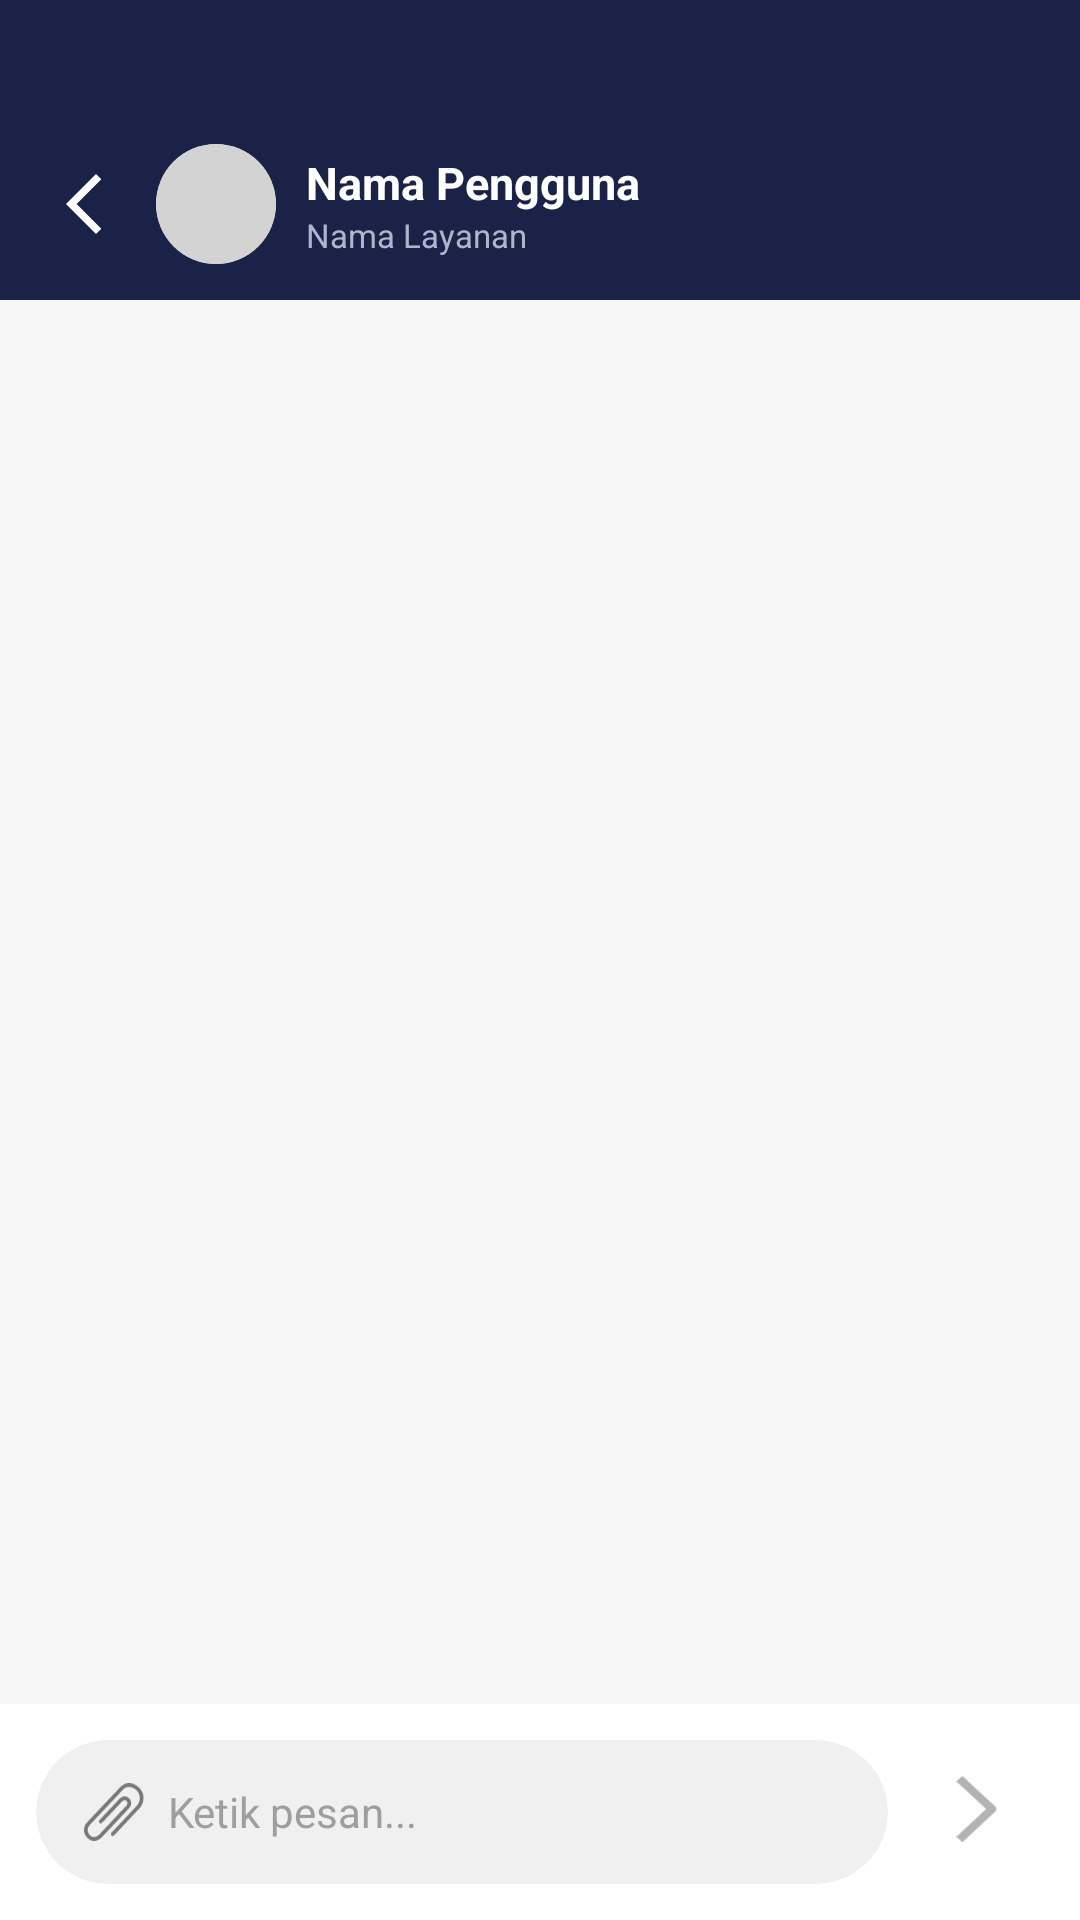

Locate icon controls on the screen. Image size 1080w x 1920h, boxes as (x1, y1, x2, y2).
back: (66, 174, 101, 234)
clip: (84, 1783, 144, 1841)
next: (956, 1776, 997, 1842)
